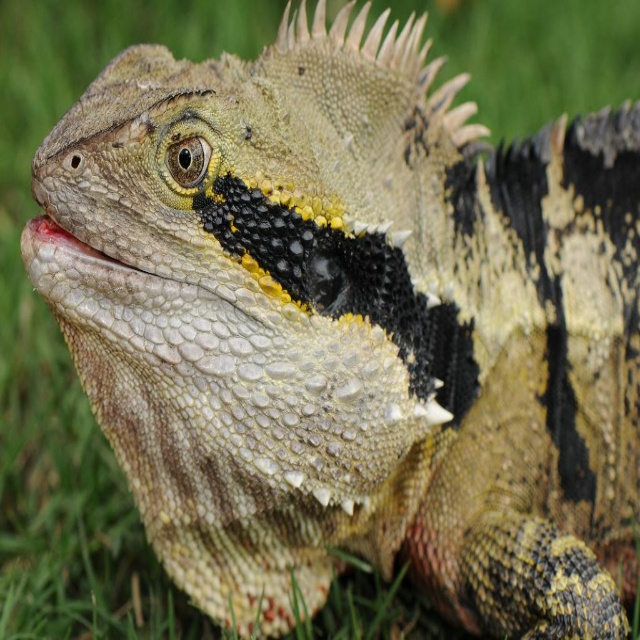Lizard: (19, 0, 640, 639)
